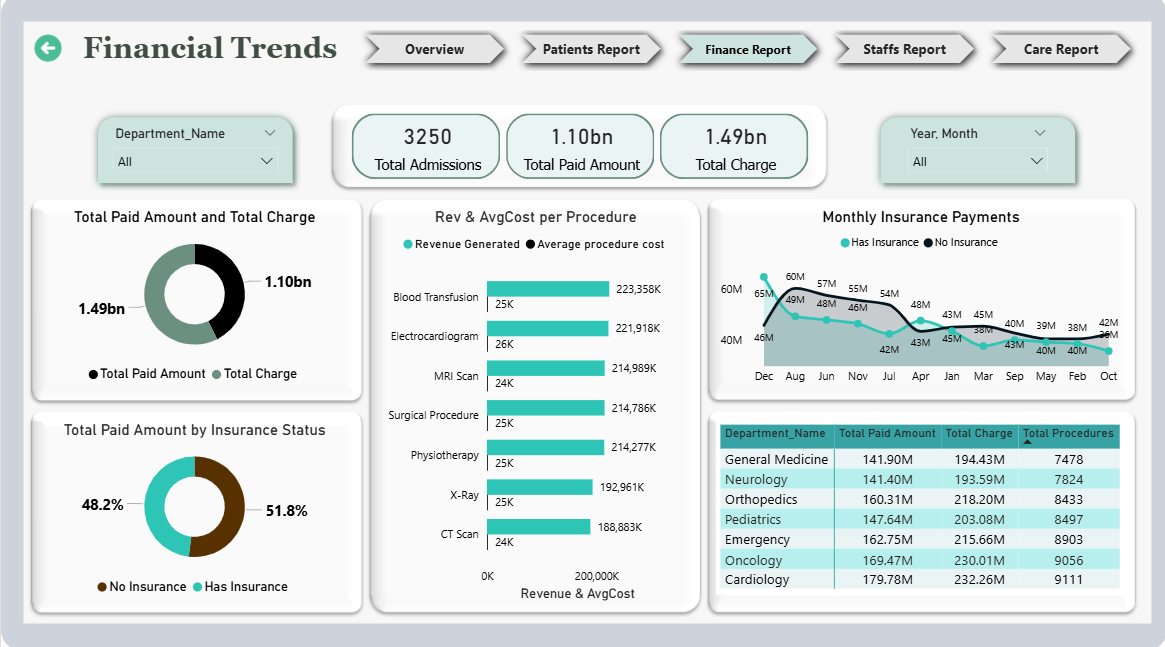

What the dashboard file says about the page in this screenshot:
{"tool":"powerbi","page":{"name":"Finance Report","canvas":[1280,720],"ordinal":3},"visuals":[{"type":"shape","box":[956.4,126.2,231.9,90.6],"z":0},{"type":"cardVisual","fields":{"Data":["_measures.Total Admissions","_measures.Total Paid Amount","_measures.Total Charge"]},"box":[380.1,126.2,511.8,82.3],"z":1000},{"type":"lineChart","title":"Monthly Insurance Payments","fields":{"Y":["_measures.Total Paid Amount"],"Category":["Date_Table.Month_Name"],"Series":["fact_table.Insurance Status"]},"box":[784.9,234.6,450.1,203.1],"z":2000},{"type":"donutChart","fields":{"Y":["_measures.Total Paid Amount","_measures.Total Charge"]},"box":[41.2,234.6,343.1,203.1],"z":3000},{"type":"donutChart","fields":{"Y":["_measures.Total Paid Amount"],"Category":["fact_table.Insurance Status"]},"box":[41,467.5,343,203],"z":4000},{"type":"clusteredBarChart","title":"Rev & AvgCost per Procedure","fields":{"Category":["fact_table.Procedure_Description"],"Y":["_measures.Revenue Generated","_measures.Average procedure cost"]},"box":[411.7,234.6,351.3,436.4],"z":5000},{"type":"pivotTable","fields":{"Rows":["fact_table.Department_Name"],"Values":["_measures.Total Paid Amount","_measures.Total Charge","CountNonNull(fact_table.Proc_ID)"]},"box":[784.9,467.9,450.1,192.1],"z":6000},{"type":"slicer","fields":{"Values":["Date_Table.Year","Date_Table.Month"]},"box":[985.3,140,174.3,54.9],"z":7000},{"type":"shape","box":[97.4,126.2,231.9,90.6],"z":8000},{"type":"slicer","fields":{"Values":["fact_table.Department_Name"]},"box":[112.5,140,201.7,54.9],"z":9000},{"type":"pageNavigator","box":[391.1,35.7,860.4,49.4],"z":10000},{"type":"textbox","box":[85.1,35.7,343.1,65.9],"z":11000},{"type":"image","box":[28.8,39.8,45.3,39.8],"z":12000}]}

Visuals, with their boxes in screenshot pixels (x1, y1, x2, y2), scaled from the page's 1280x720 canvas onto the 1165x647 screenshot:
shape: 870:113:1082:195
cardVisual - _measures.Total Admissions x _measures.Total Paid Amount: 346:113:812:187
"Monthly Insurance Payments" lineChart: 714:211:1124:393
donutChart - _measures.Total Paid Amount x _measures.Total Charge: 37:211:350:393
donutChart - _measures.Total Paid Amount x fact_table.Insurance Status: 37:420:350:603
"Rev & AvgCost per Procedure" clusteredBarChart: 375:211:694:603
pivotTable - fact_table.Department_Name x _measures.Total Paid Amount: 714:420:1124:593
slicer - Date_Table.Year x Date_Table.Month: 897:126:1055:175
shape: 89:113:300:195
slicer - fact_table.Department_Name: 102:126:286:175
pageNavigator: 356:32:1139:76
textbox: 77:32:390:91
image: 26:36:67:72
